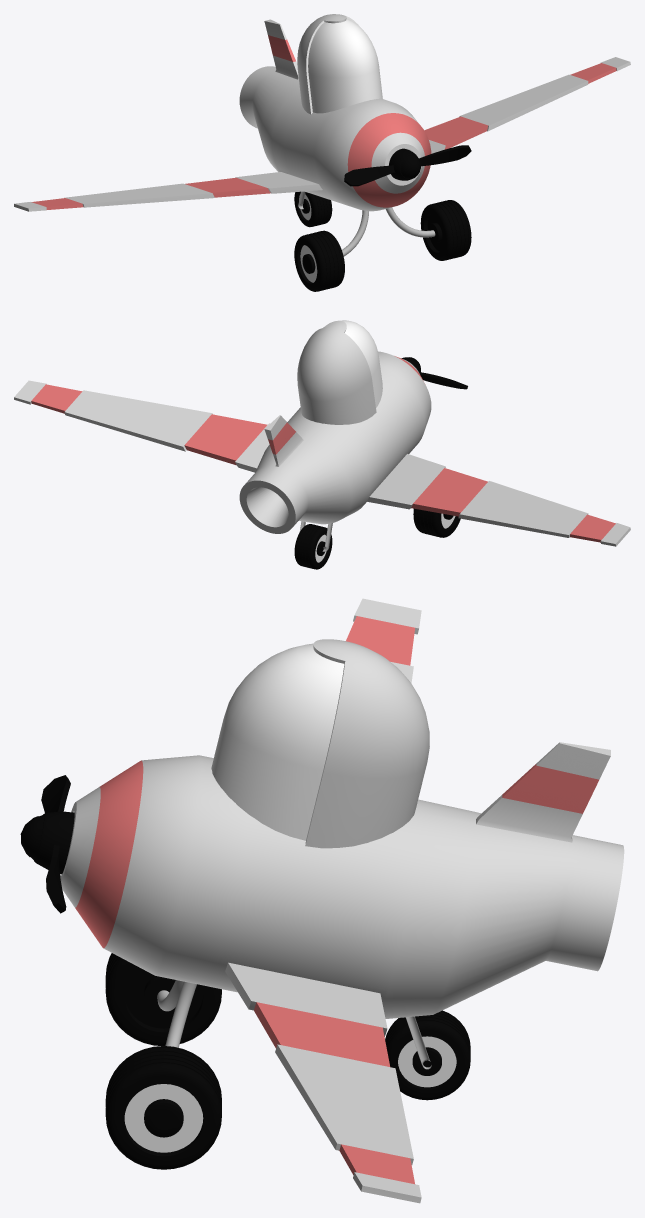
File: Airplane.glb
3 renders of one model, top to bottom at view 1: azimuth 30°, elevation 25°; view 2: azimuth 150°, elevation 25°; view 3: azimuth 270°, elevation 25°, orthographic. The views are drawn at different scales.
Visible parts, largest first — view 1: Nave, Cabina, Llanta_3, Llanta_2, Llanta, Sphere, Helice_2, Helice, Tren_1; view 2: Nave, Cabina, Llanta, Llanta_2, Helice_2; view 3: Nave, Cabina, Llanta_3, Llanta_2, Llanta, Rin_1, Sphere, Rin_2, Tren_1, Helice_2.
Part boxes in pixels (<box>): Nave: <box>14,19,630,211</box>; Cabina: <box>297,14,382,114</box>; Llanta_3: <box>420,200,471,260</box>; Llanta_2: <box>294,230,344,291</box>; Llanta: <box>294,191,332,227</box>; Sphere: <box>389,148,420,180</box>; Helice_2: <box>344,165,395,186</box>; Helice: <box>419,145,471,166</box>; Tren_1: <box>385,207,435,237</box>; Nave: <box>14,351,630,546</box>; Cabina: <box>297,320,382,424</box>; Llanta: <box>294,524,332,569</box>; Llanta_2: <box>413,508,460,537</box>; Helice_2: <box>419,372,467,389</box>; Nave: <box>60,598,624,1203</box>; Cabina: <box>211,639,429,848</box>; Llanta_3: <box>105,1046,221,1169</box>; Llanta_2: <box>105,953,221,1045</box>; Llanta: <box>385,1010,470,1100</box>; Rin_1: <box>124,1084,203,1152</box>; Sphere: <box>20,811,74,874</box>; Rin_2: <box>398,1036,456,1087</box>; Tren_1: <box>165,981,196,1047</box>; Helice_2: <box>41,775,70,813</box>.
Size of the model in its own units: 6.18 by 2.21 by 2.68.
